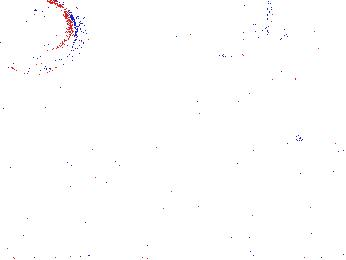moon jellyfish: (1, 1, 75, 77), (232, 76, 310, 144), (161, 1, 269, 41), (266, 8, 321, 81)
